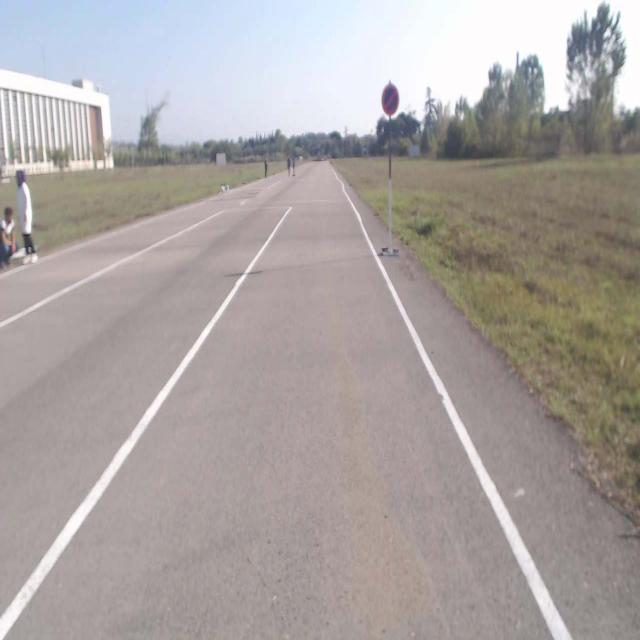parkyasak: (382, 85, 399, 115)
